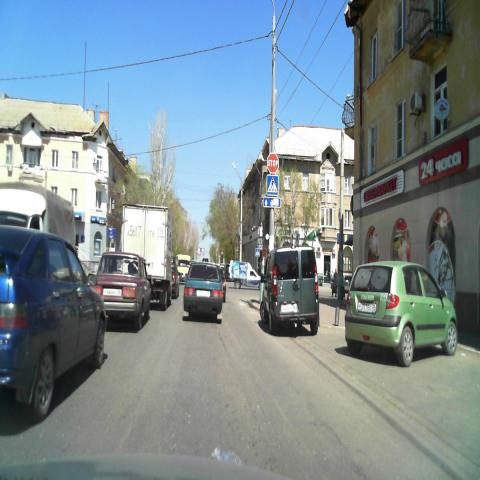6_15_1: (263, 196, 281, 208)
